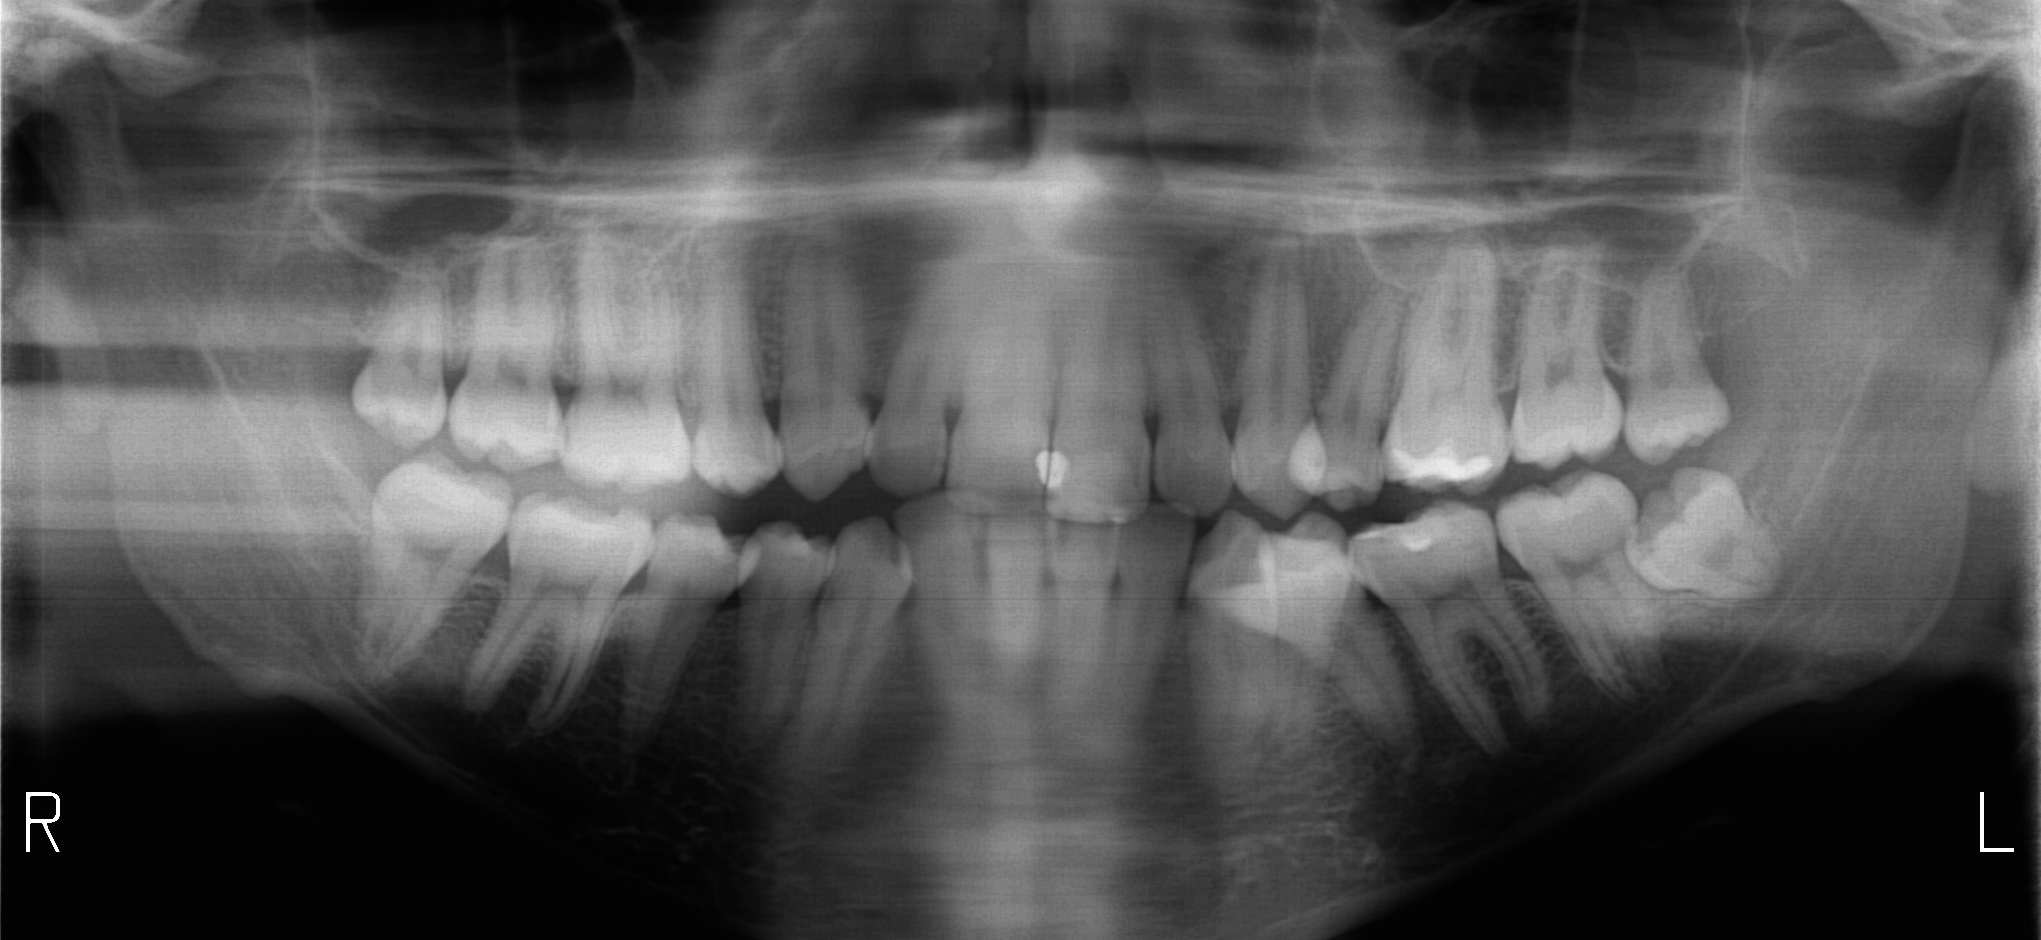cavity: (738, 585, 747, 607)
